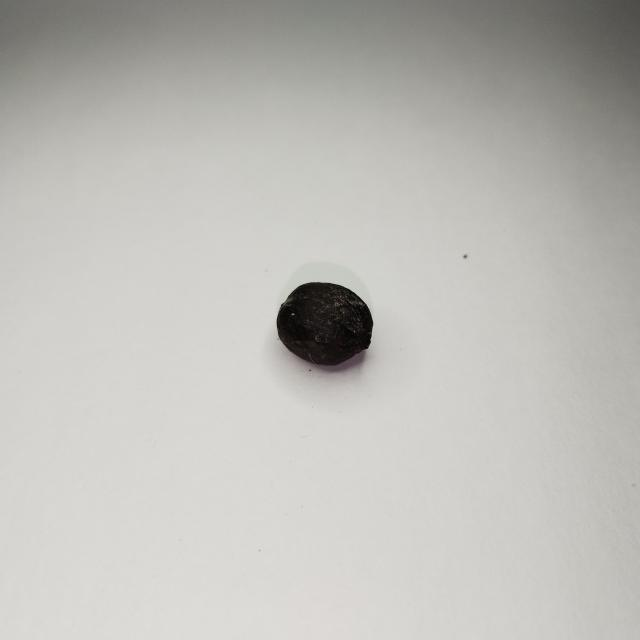Danado: (277, 282, 372, 364)
